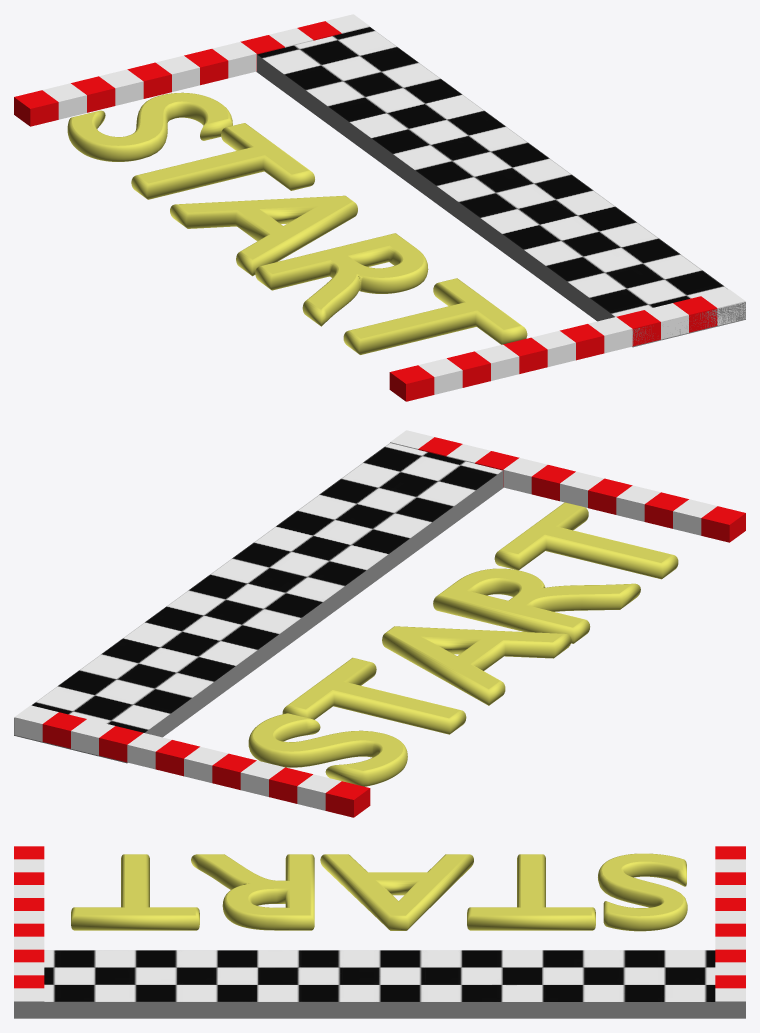
Rendered from start_line_mini2.dae.
The picture shows the model from 3 angles, top to bottom: view 1: azimuth 30°, elevation 25°; view 2: azimuth 150°, elevation 25°; view 3: azimuth 270°, elevation 25°; orthographic projection. The views are drawn at different scales.
Parts seen in each view (by area): view 1: Cube, start, Plane, Plane.001; view 2: Cube, start, Plane.001, Plane; view 3: Cube, start, Plane.001, Plane.
Boxes of the visible parts, <box> form: Cube: <box>256,27,745,347</box>; start: <box>67,92,527,354</box>; Plane: <box>389,289,745,401</box>; Plane.001: <box>14,14,369,126</box>; Cube: <box>14,443,503,763</box>; start: <box>248,502,678,786</box>; Plane.001: <box>14,705,370,817</box>; Plane: <box>390,430,745,542</box>; Cube: <box>14,950,745,1018</box>; start: <box>71,853,687,931</box>; Plane.001: <box>715,846,745,1001</box>; Plane: <box>14,846,44,1001</box>.
Size of the model in its own units: 0.4004 by 0.8001 by 0.021.
6 materials, 1 textured.
